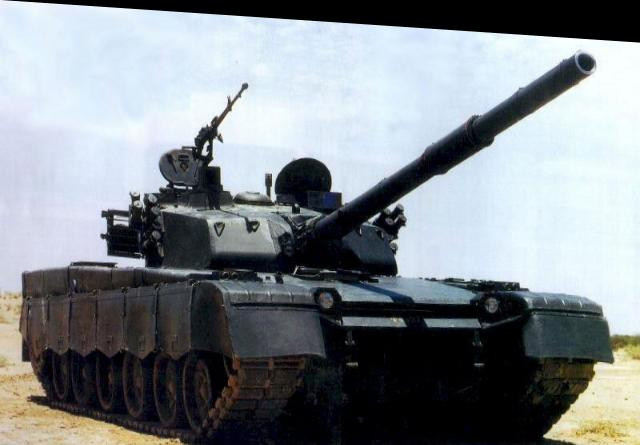tank: (28, 135, 600, 436)
